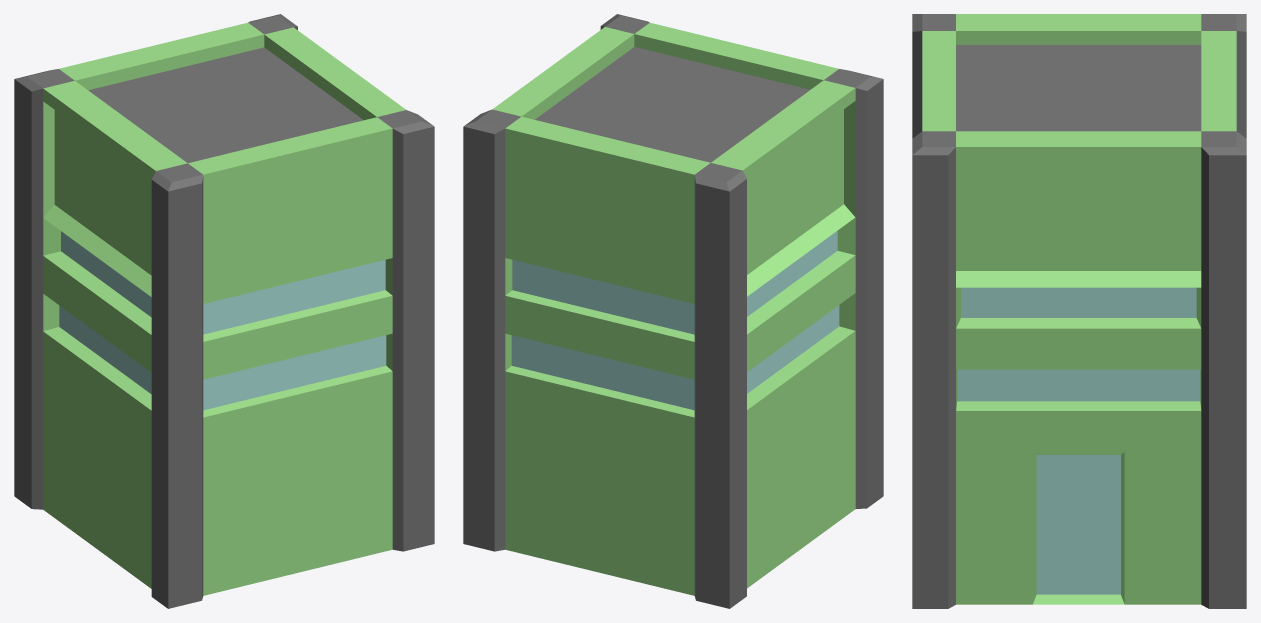
File: Building 2.fbx
The picture shows the model from 3 angles, left to right: view 1: azimuth 30°, elevation 25°; view 2: azimuth 150°, elevation 25°; view 3: azimuth 270°, elevation 25°; orthographic projection. The views are drawn at different scales.
Parts seen in each view (by area): view 1: pCube4; view 2: pCube4; view 3: pCube4.
Boxes of the visible parts, x1,y1,x2,y2 form: pCube4: [14, 14, 434, 608]; pCube4: [463, 14, 883, 608]; pCube4: [912, 14, 1246, 608].
Bounding box in the file's own units: 6.46 × 9.76 × 6.46.
